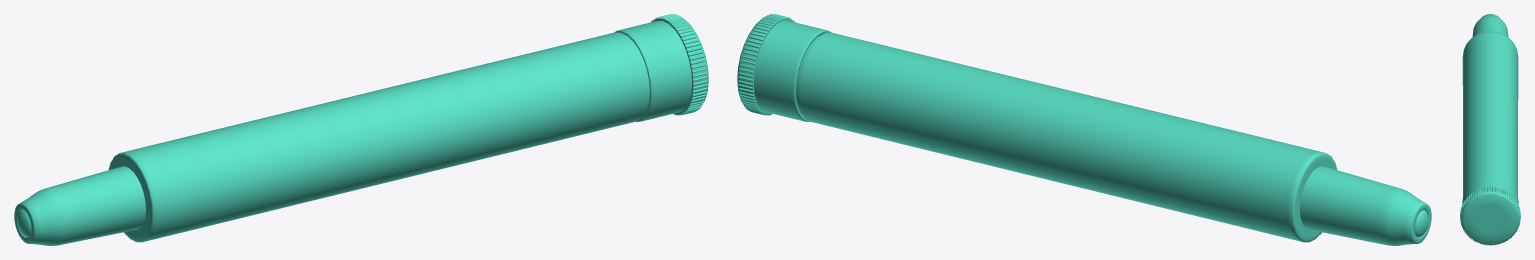
The model's file is AutoinjectorPralidoxime.FBX.
3 renders of one model, left to right at view 1: azimuth 30°, elevation 25°; view 2: azimuth 150°, elevation 25°; view 3: azimuth 270°, elevation 25°, orthographic. The views are drawn at different scales.
Parts seen in each view (by area): view 1: AutoinjectorPralidoxime; view 2: AutoinjectorPralidoxime; view 3: AutoinjectorPralidoxime.
Boxes of the visible parts, x1=… form: AutoinjectorPralidoxime: x1=14, y1=14, x2=708, y2=245; AutoinjectorPralidoxime: x1=737, y1=14, x2=1431, y2=245; AutoinjectorPralidoxime: x1=1460, y1=14, x2=1520, y2=245.
Size of the model in its own units: 14.46 by 1.9 by 1.9.
